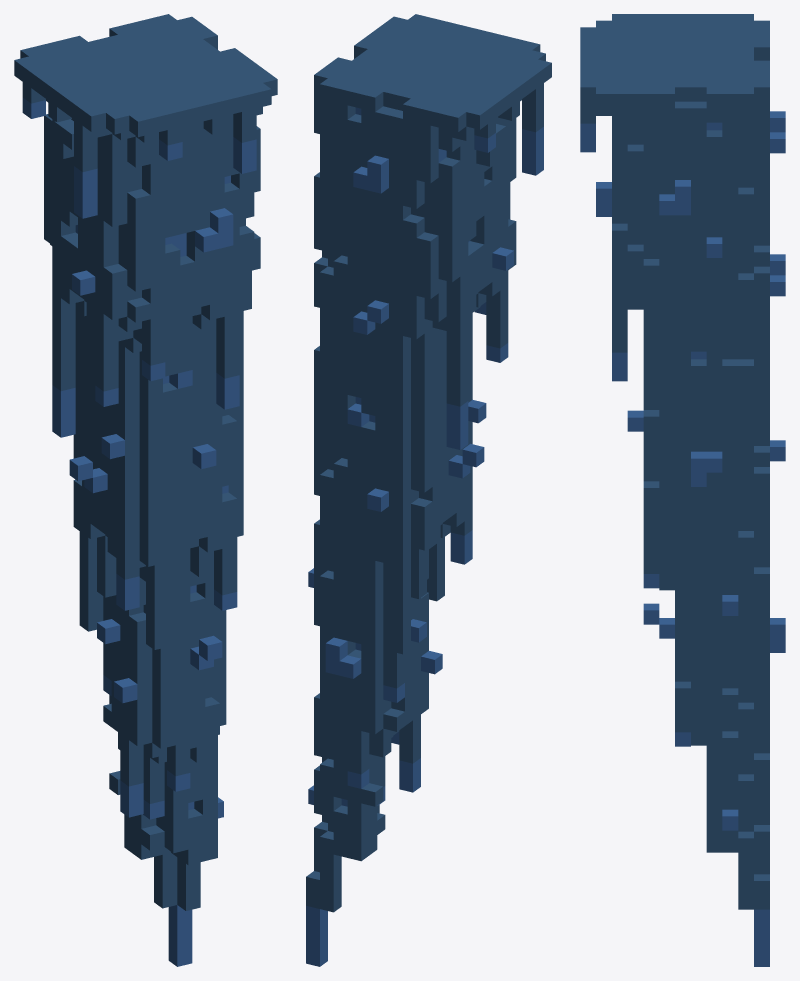
Rendered from IcycleDarkIce2.obj.
3 renders of one model, left to right at view 1: azimuth 30°, elevation 25°; view 2: azimuth 150°, elevation 25°; view 3: azimuth 270°, elevation 25°, orthographic. The views are drawn at different scales.
Bounding box in the file's own units: 1.3 × 6.1 × 1.3.
1 material, 1 textured.
